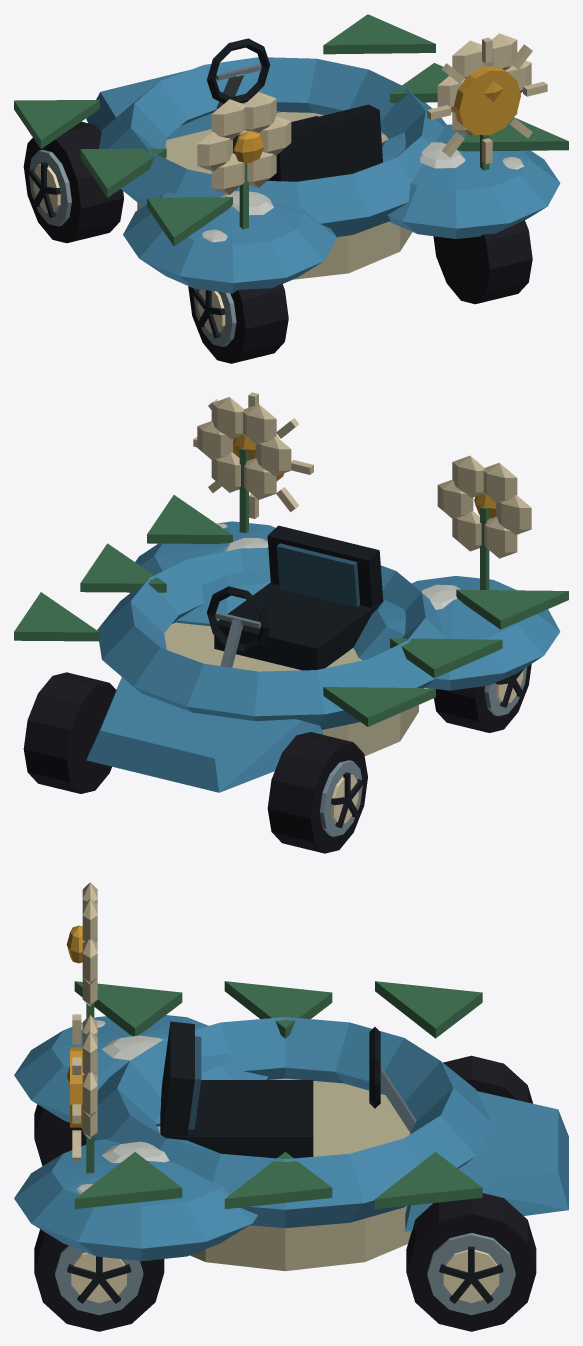
Rendered from kart.glb.
The picture shows the model from 3 angles, top to bottom: view 1: azimuth 30°, elevation 25°; view 2: azimuth 150°, elevation 25°; view 3: azimuth 270°, elevation 25°; orthographic projection. The views are drawn at different scales.
Visible parts, largest first — view 1: identity-mushroom-mushroom-cap-fenders, identity-mushroom-motif-leaves, identity-mushroom-motif-flowers, identity-mushroom-driver-cockpit, wheel-front-left, wheel-rear-left, wheel-rear-right, identity-mushroom-motif-sun; view 2: identity-mushroom-mushroom-cap-fenders, identity-mushroom-driver-cockpit, identity-mushroom-motif-leaves, identity-mushroom-motif-flowers, wheel-front-left, wheel-front-right, wheel-rear-left, identity-mushroom-motif-sun; view 3: identity-mushroom-mushroom-cap-fenders, identity-mushroom-motif-leaves, identity-mushroom-driver-cockpit, wheel-front-right, wheel-rear-right, identity-mushroom-motif-flowers, wheel-front-left, wheel-rear-left, identity-mushroom-motif-sun.
Boxes of the visible parts, left/top/right/bottom form: identity-mushroom-mushroom-cap-fenders: left=86, top=57, right=560, bottom=293; identity-mushroom-motif-leaves: left=14, top=14, right=568, bottom=246; identity-mushroom-motif-flowers: left=197, top=33, right=531, bottom=229; identity-mushroom-driver-cockpit: left=207, top=38, right=382, bottom=181; wheel-front-left: left=23, top=121, right=123, bottom=243; wheel-rear-left: left=188, top=283, right=288, bottom=363; wheel-rear-right: left=433, top=220, right=532, bottom=304; identity-mushroom-motif-sun: left=427, top=37, right=547, bottom=163; identity-mushroom-mushroom-cap-fenders: left=86, top=521, right=560, bottom=792; identity-mushroom-driver-cockpit: left=207, top=525, right=383, bottom=670; identity-mushroom-motif-leaves: left=14, top=495, right=568, bottom=726; identity-mushroom-motif-flowers: left=197, top=397, right=531, bottom=589; wheel-front-left: left=267, top=732, right=367, bottom=853; wheel-front-right: left=23, top=672, right=116, bottom=793; wheel-rear-left: left=434, top=664, right=531, bottom=732; identity-mushroom-motif-sun: left=193, top=392, right=313, bottom=518; identity-mushroom-mushroom-cap-fenders: left=14, top=1015, right=568, bottom=1271; identity-mushroom-motif-leaves: left=74, top=981, right=482, bottom=1209; identity-mushroom-driver-cockpit: left=160, top=1021, right=415, bottom=1158; wheel-front-right: left=406, top=1193, right=536, bottom=1331; wheel-rear-right: left=34, top=1229, right=164, bottom=1331; identity-mushroom-motif-flowers: left=66, top=882, right=97, bottom=1173; wheel-front-left: left=443, top=1055, right=532, bottom=1103; wheel-rear-left: left=34, top=1104, right=86, bottom=1165; identity-mushroom-motif-sun: left=70, top=1014, right=83, bottom=1160.
Bounding box in the file's own units: 2.36 × 1.47 × 2.48.
